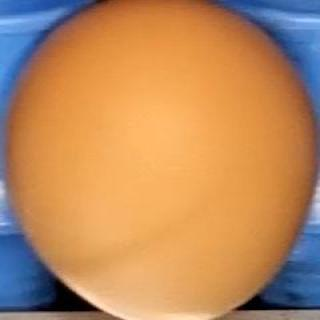Telur: (4, 1, 317, 320)
